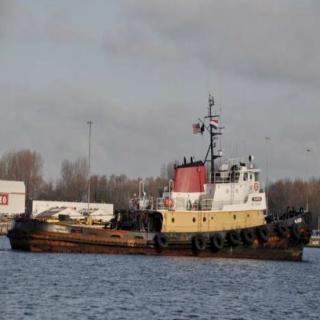Tug Boat: (19, 118, 311, 253)
